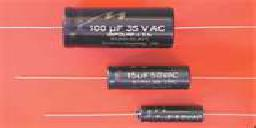Electrolytic Capacitor: (56, 5, 192, 58), (45, 100, 256, 125), (102, 64, 199, 93)
